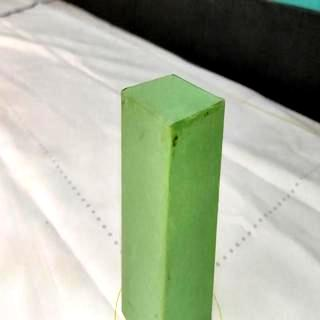greenbox: (120, 72, 226, 320)
